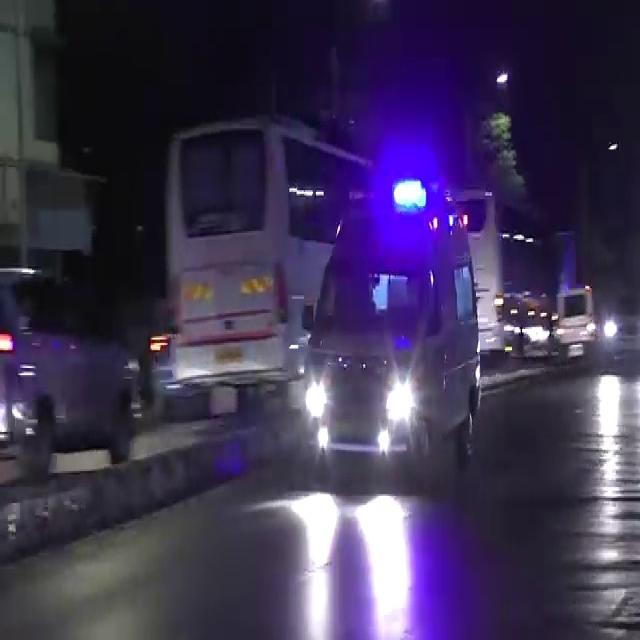ambulance: (312, 182, 493, 470)
